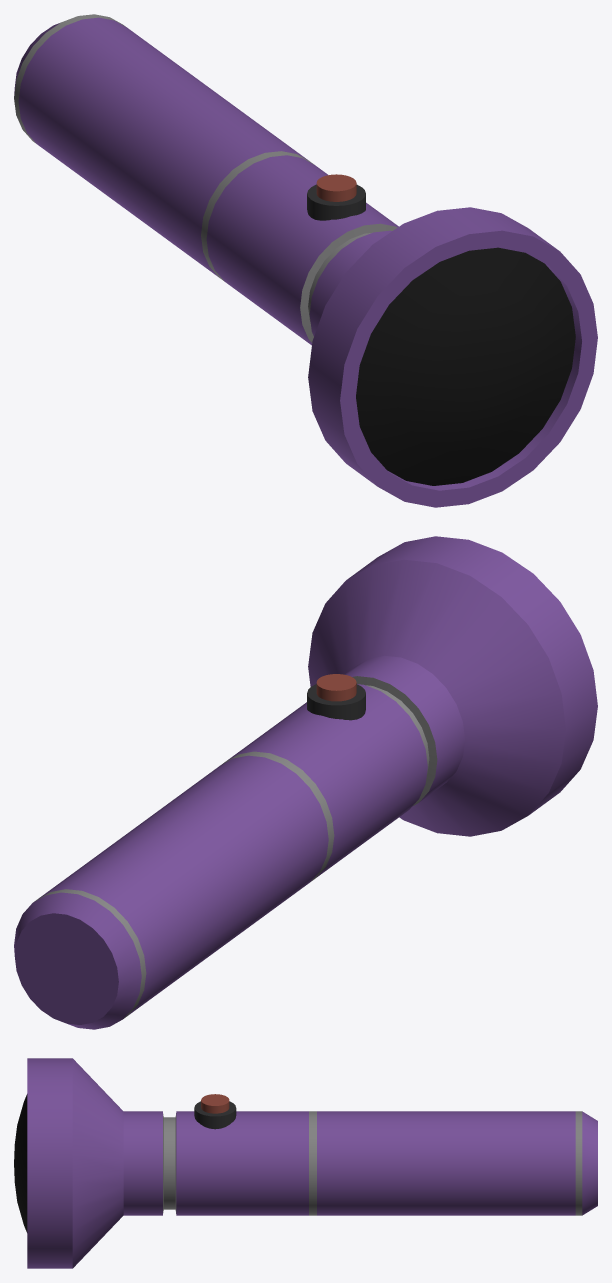
File: torch.gltf
3 renders of one model, top to bottom at view 1: azimuth 30°, elevation 25°; view 2: azimuth 150°, elevation 25°; view 3: azimuth 270°, elevation 25°, orthographic. The views are drawn at different scales.
Visible parts, largest first — view 1: Cylinder; view 2: Cylinder; view 3: Cylinder.
Part boxes in pixels (box(x1,y1,x2,y2)): Cylinder: box(14, 14, 597, 507); Cylinder: box(14, 536, 597, 1029); Cylinder: box(14, 1058, 597, 1268).
Bounding box in the file's own units: 0.059 × 0.059 × 0.1631.
